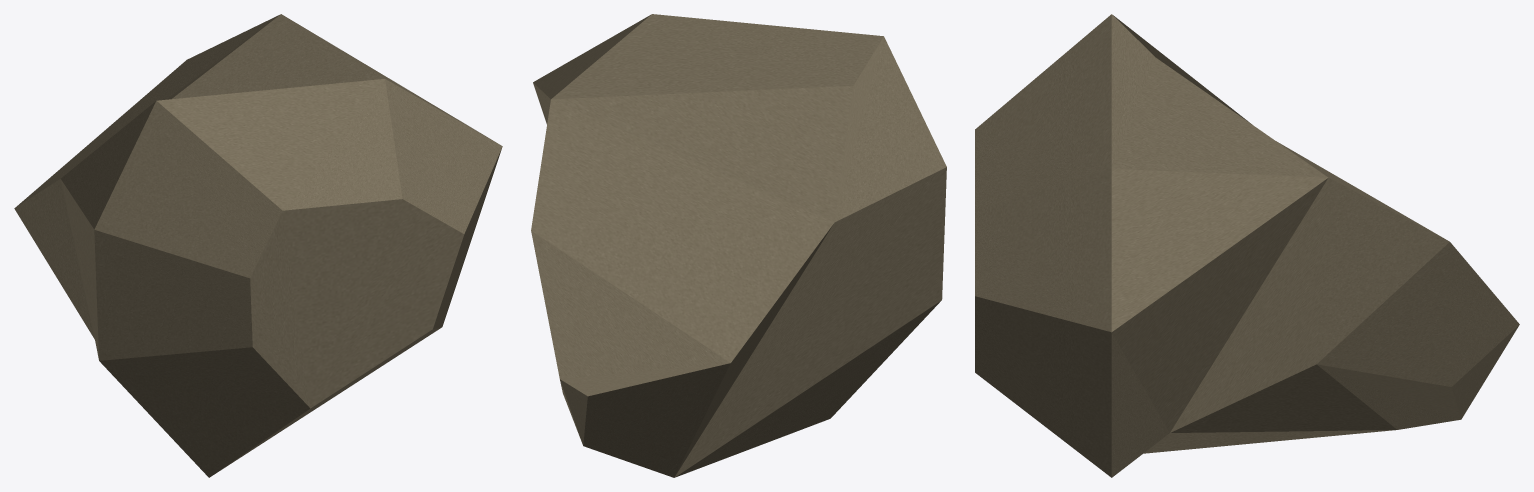
Rendered from all_share_rock_8.FBX.
3 views of the same model, side by side, from view 1: azimuth 30°, elevation 25°; view 2: azimuth 150°, elevation 25°; view 3: azimuth 270°, elevation 25° (orthographic). The views are drawn at different scales.
Visible parts, largest first — view 1: rock_3.001; view 2: rock_3.001; view 3: rock_3.001.
Part boxes in pixels (x1,y1,x2,y2): rock_3.001: [14, 14, 502, 477]; rock_3.001: [531, 14, 946, 477]; rock_3.001: [975, 14, 1519, 477].
Size of the model in its own units: 312 by 285 by 339.
